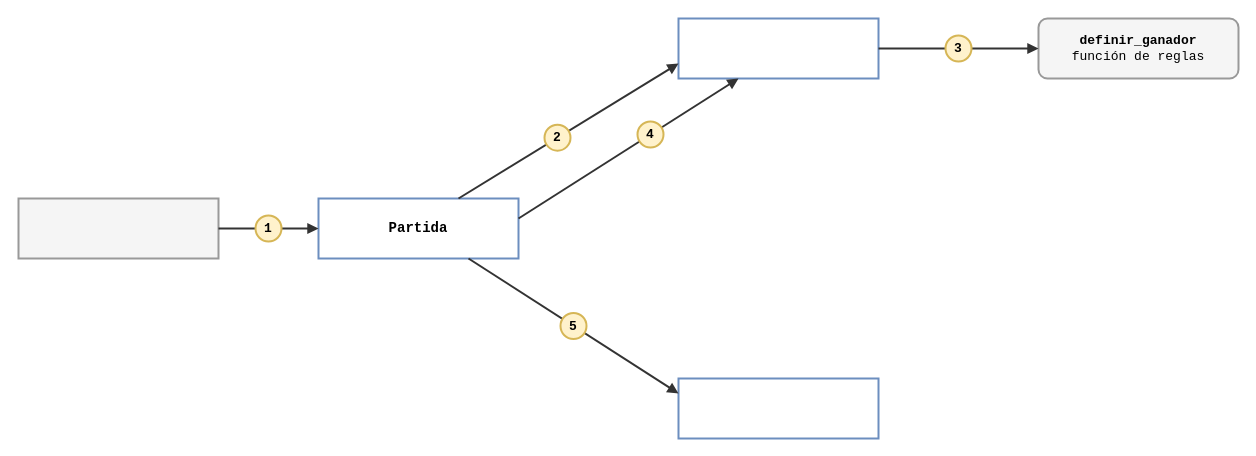
Image size: 1256x456. Some labels were removed from this diagram. The centre of each missing label's shape, as x and y in pixels:
"Jugador" belongs at point 778,408.
"programa principal" belongs at point 118,228.
"Ronda" belongs at point 778,48.
